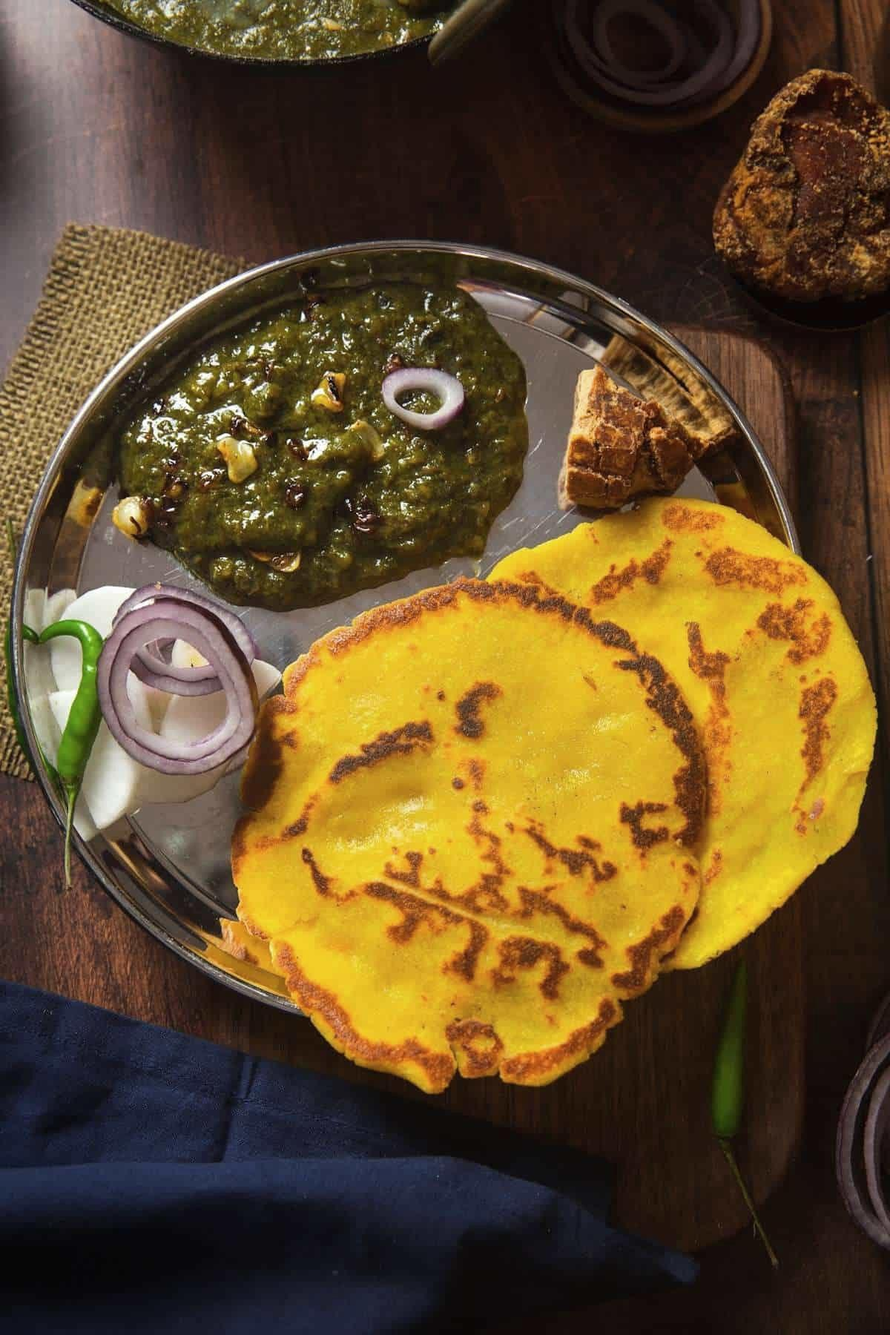saag: (188, 302, 498, 584)
